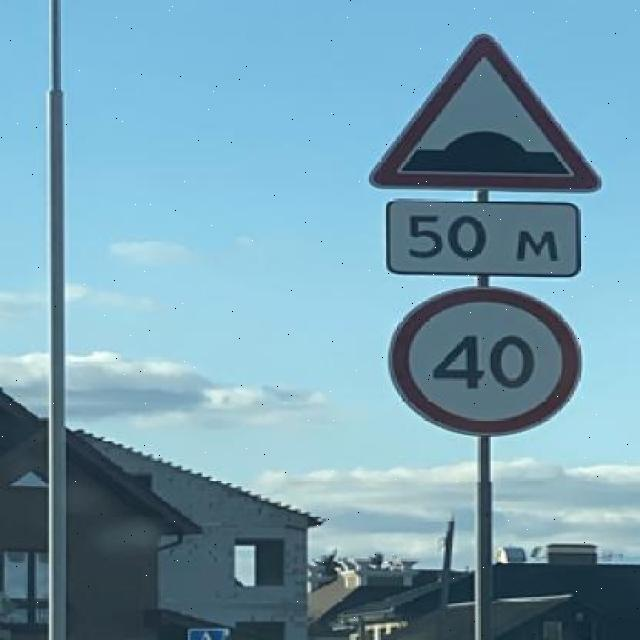speed limit 40: (388, 289, 582, 438)
